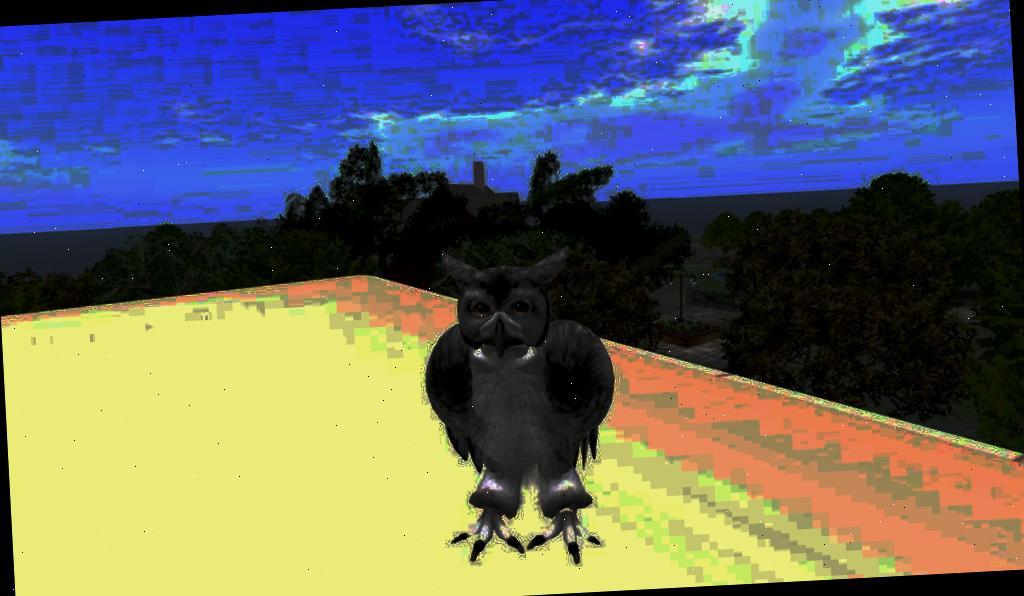Owl: (414, 245, 623, 572)
